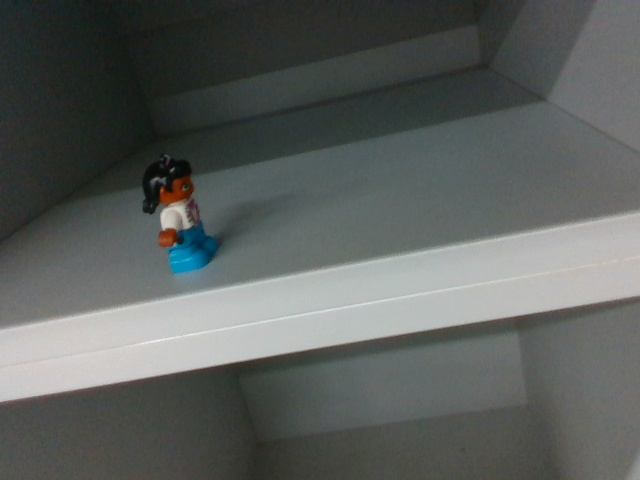people: (137, 151, 221, 272)
